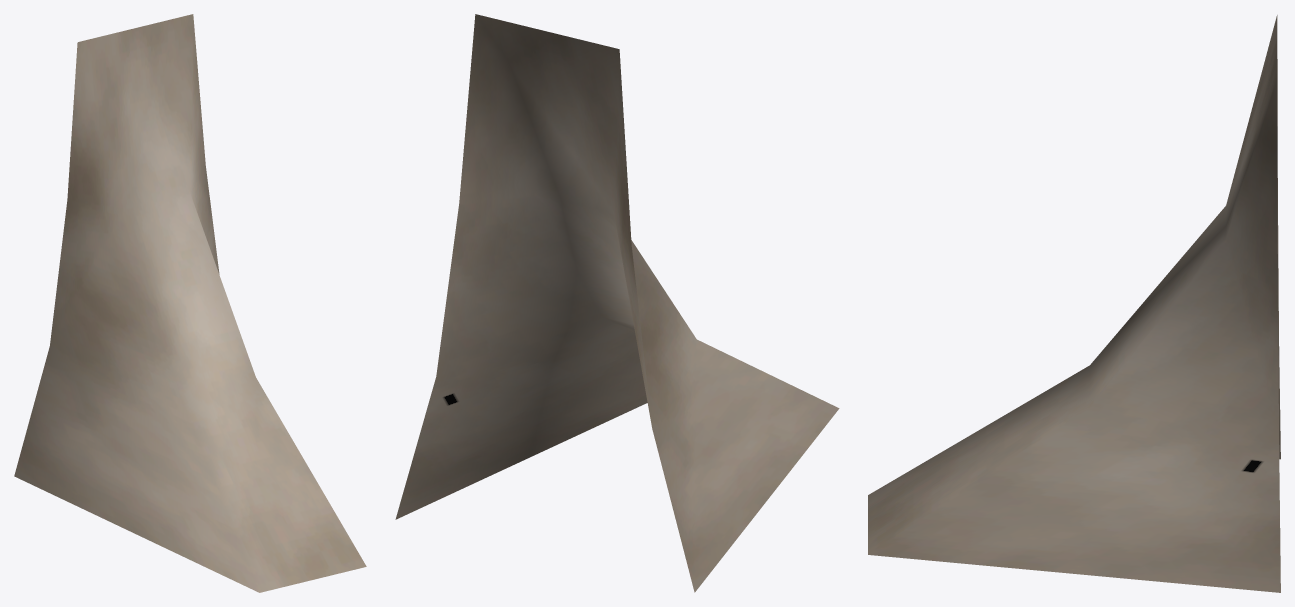
Rendered from web_09.fbx.
The picture shows the model from 3 angles, left to right: view 1: azimuth 30°, elevation 25°; view 2: azimuth 150°, elevation 25°; view 3: azimuth 270°, elevation 25°; orthographic projection. The views are drawn at different scales.
Parts seen in each view (by area): view 1: mine_tileset/mine_web01_mat; view 2: mine_tileset/mine_web01_mat; view 3: mine_tileset/mine_web01_mat.
Boxes of the visible parts, x1,y1,x2,y2 form: mine_tileset/mine_web01_mat: (14, 14, 366, 592); mine_tileset/mine_web01_mat: (395, 14, 839, 592); mine_tileset/mine_web01_mat: (868, 15, 1280, 592).
Bounding box in the file's own units: 3.06 × 5.12 × 4.
